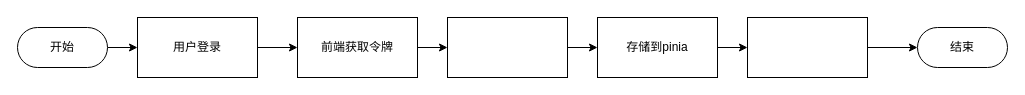
Some shapes in this 1025 by 95 pixel diagram are drawn without their labels. Here are the shapes that lost their labels. From the top down, the centre of each, then its label:
At point (507, 47): "登录路由请求后端获取用户信息与权限信息".
At point (807, 47): "前端判断权限并控制显示".
